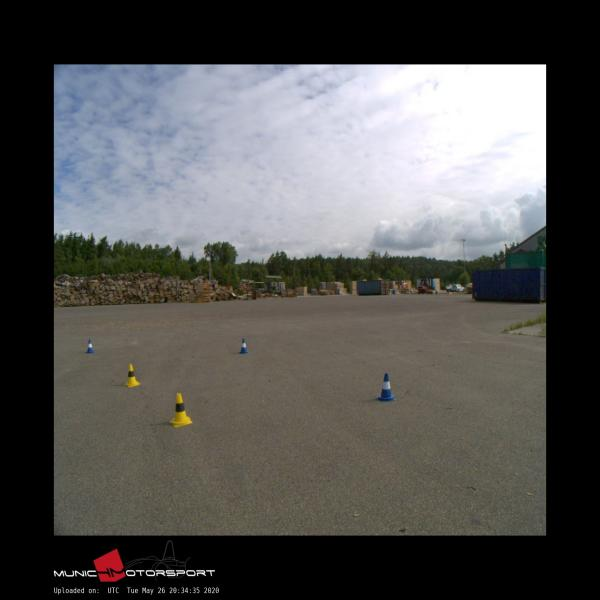blue_cone: (376, 373, 396, 400), (86, 340, 94, 353), (240, 338, 247, 352)
yellow_cone: (170, 393, 192, 426), (124, 364, 141, 388)
